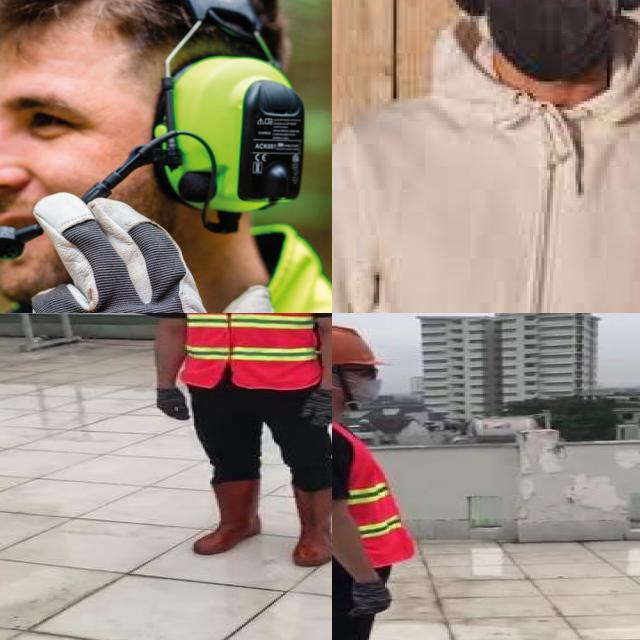Ear-protection: (0, 0, 310, 298), (427, 0, 490, 19)
boots: (194, 481, 265, 553), (286, 485, 332, 568)
face_mask: (332, 362, 391, 408)
hand_glove: (341, 578, 395, 618), (151, 387, 194, 422), (304, 388, 332, 426)
head_helmet: (332, 321, 383, 374)
person: (332, 0, 640, 313), (133, 313, 332, 571), (332, 316, 433, 640)
vest: (332, 408, 415, 572), (167, 313, 327, 391)
